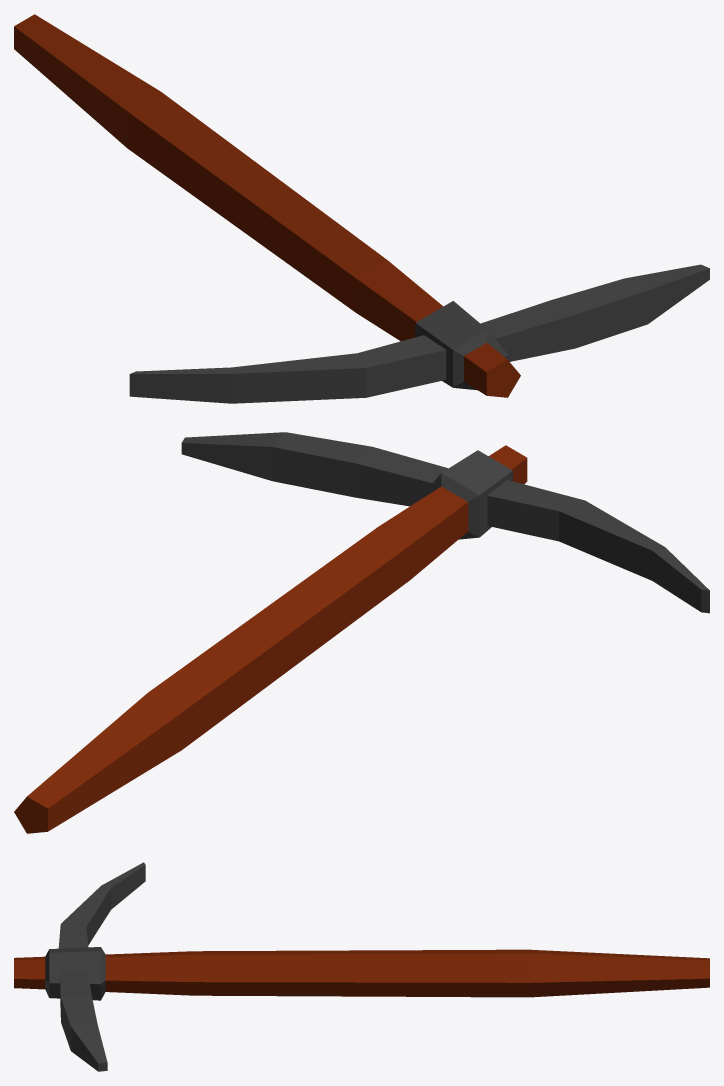
File: Robotnica_Kilof.FBX
3 renders of one model, top to bottom at view 1: azimuth 30°, elevation 25°; view 2: azimuth 150°, elevation 25°; view 3: azimuth 270°, elevation 25°, orthographic. The views are drawn at different scales.
Visible parts, largest first — view 1: Robotnica_Kilof; view 2: Robotnica_Kilof; view 3: Robotnica_Kilof.
Boxes of the visible parts, left/top/right/bottom form: Robotnica_Kilof: left=14, top=14, right=709, bottom=403; Robotnica_Kilof: left=14, top=432, right=709, bottom=833; Robotnica_Kilof: left=14, top=862, right=709, bottom=1071.
Size of the model in its own units: 15.74 by 1.85 by 23.47.
